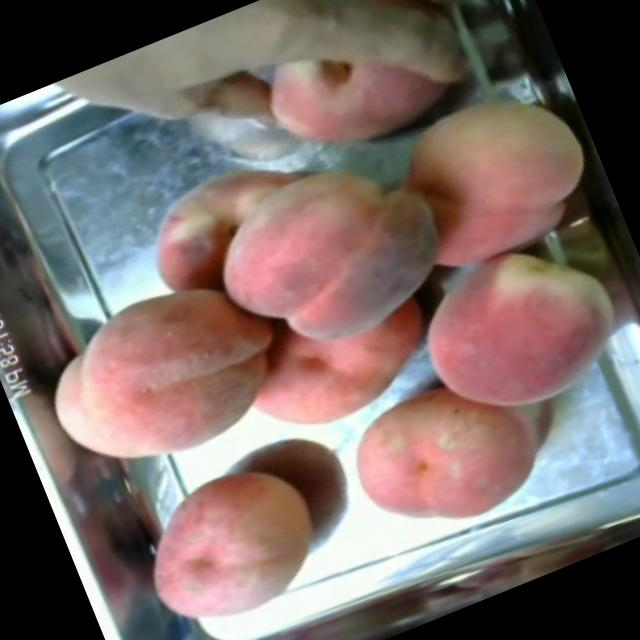Fruit: (164, 82, 472, 392), (9, 243, 319, 511), (360, 49, 620, 299), (390, 210, 640, 451), (44, 0, 369, 184), (319, 343, 566, 570), (105, 433, 353, 640)
